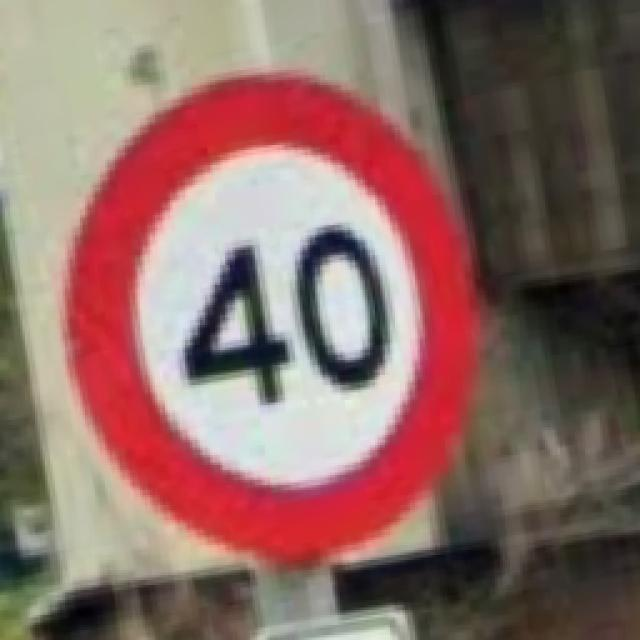Speed Limit -40-: (65, 72, 472, 562)
